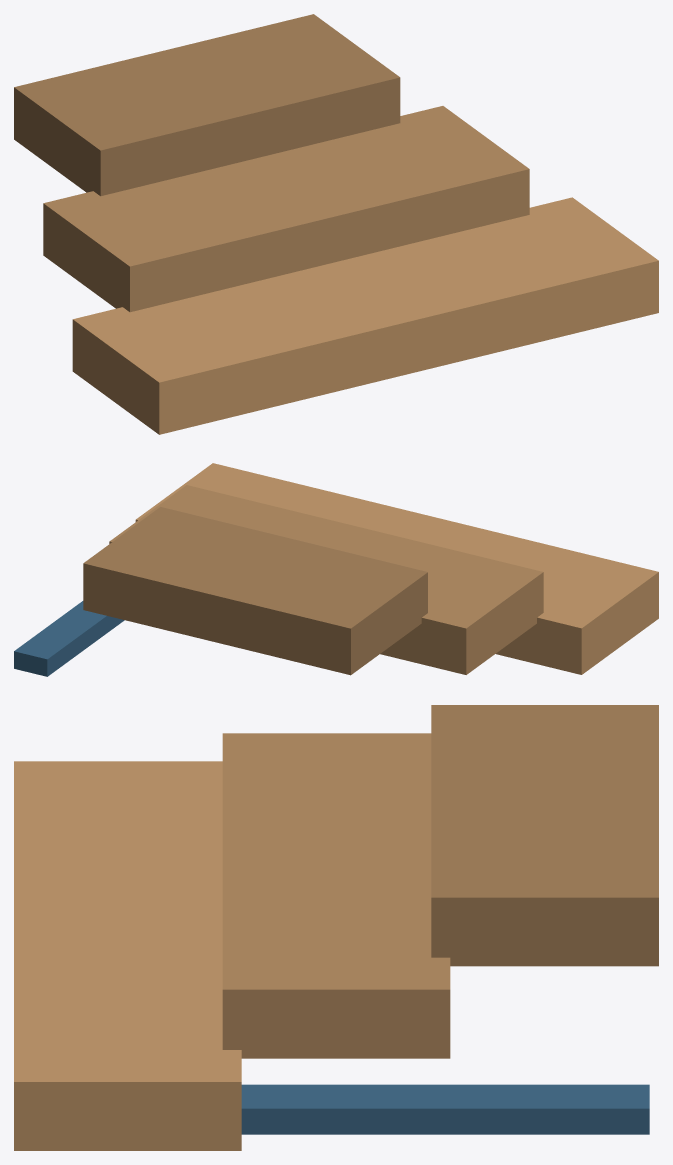
File: imp_ling_tian_ti_tian.glb
The picture shows the model from 3 angles, top to bottom: view 1: azimuth 30°, elevation 25°; view 2: azimuth 150°, elevation 25°; view 3: azimuth 270°, elevation 25°; orthographic projection. The views are drawn at different scales.
Parts seen in each view (by area): view 1: _MeshInstance3D_179, _MeshInstance3D_180, _MeshInstance3D_181; view 2: _MeshInstance3D_181, _MeshInstance3D_179, _MeshInstance3D_180, _MeshInstance3D_182; view 3: _MeshInstance3D_179, _MeshInstance3D_180, _MeshInstance3D_181, _MeshInstance3D_182.
Boxes of the visible parts, box(x1,y1,x2,y2) form: _MeshInstance3D_179: box(72, 197, 658, 434); _MeshInstance3D_180: box(43, 106, 529, 312); _MeshInstance3D_181: box(14, 14, 400, 196); _MeshInstance3D_181: box(83, 507, 427, 675); _MeshInstance3D_179: box(135, 463, 658, 674); _MeshInstance3D_180: box(109, 485, 543, 674); _MeshInstance3D_182: box(14, 601, 124, 676); _MeshInstance3D_179: box(14, 761, 241, 1150); _MeshInstance3D_180: box(222, 733, 450, 1058); _MeshInstance3D_181: box(431, 705, 658, 966); _MeshInstance3D_182: box(241, 1084, 649, 1134).
Size of the model in its own units: 0.8 by 0.22 by 0.68.
